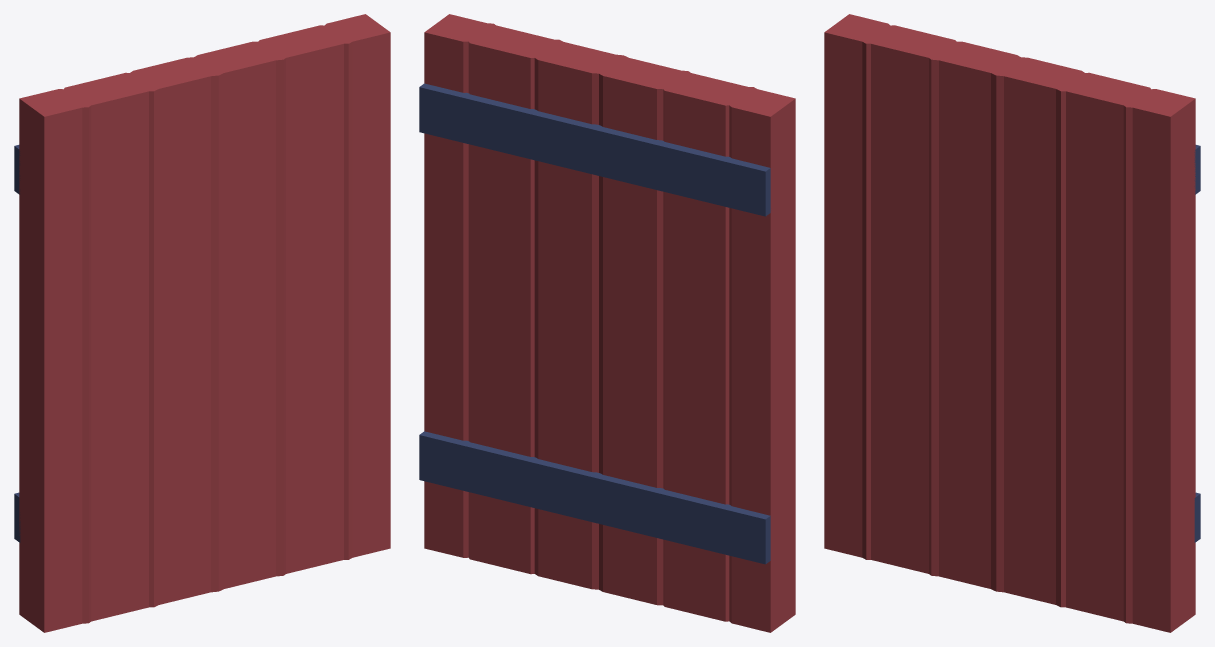
Rendered from Door.fbx.
3 views of the same model, side by side, from view 1: azimuth 30°, elevation 25°; view 2: azimuth 150°, elevation 25°; view 3: azimuth 330°, elevation 25° (orthographic).
Parts seen in each view (by area): view 1: Door; view 2: Door; view 3: Door.
Boxes of the visible parts, x1,y1,x2,y2 form: Door: (14,14,390,632); Door: (419,14,795,632); Door: (824,14,1200,632).
Size of the model in its own units: 1 by 1.42 by 0.1567.
